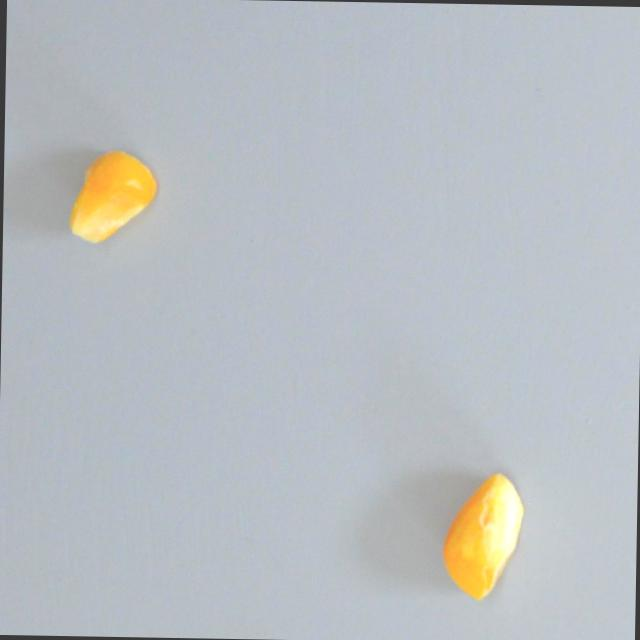dañado: (435, 467, 526, 606), (59, 143, 162, 255)
